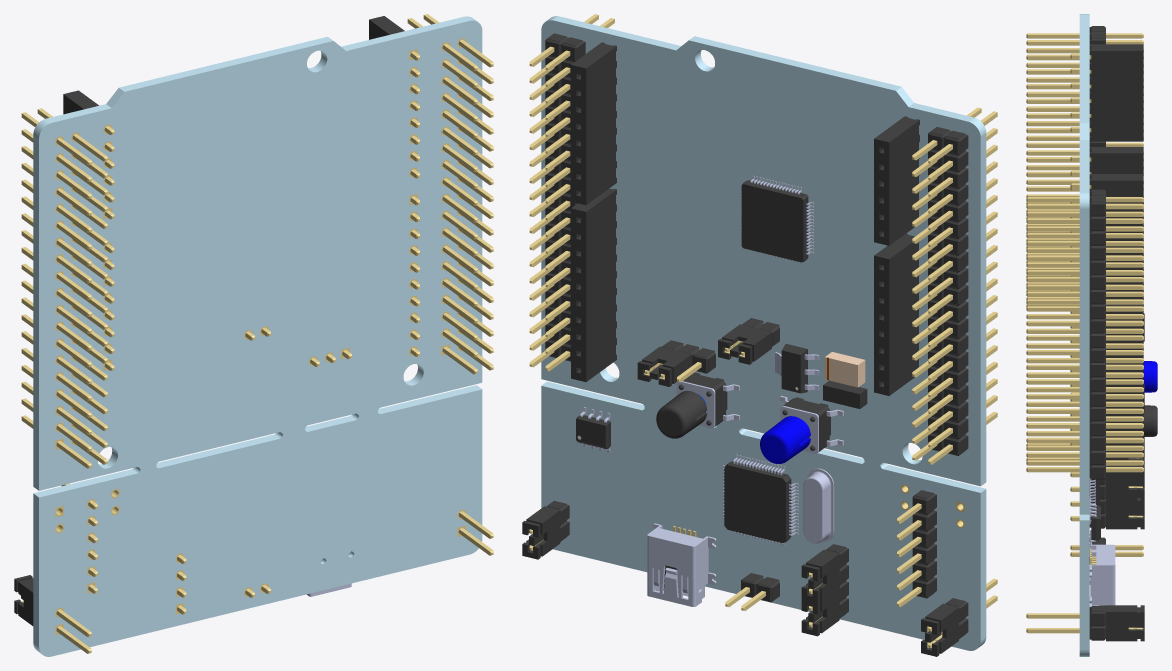
Rendered from stm32v2.glb.
The picture shows the model from 3 angles, left to right: view 1: azimuth 30°, elevation 25°; view 2: azimuth 150°, elevation 25°; view 3: azimuth 270°, elevation 25°; orthographic projection. The views are drawn at different scales.
Size of the model in its own units: 0.07 by 0.084 by 0.0207.
